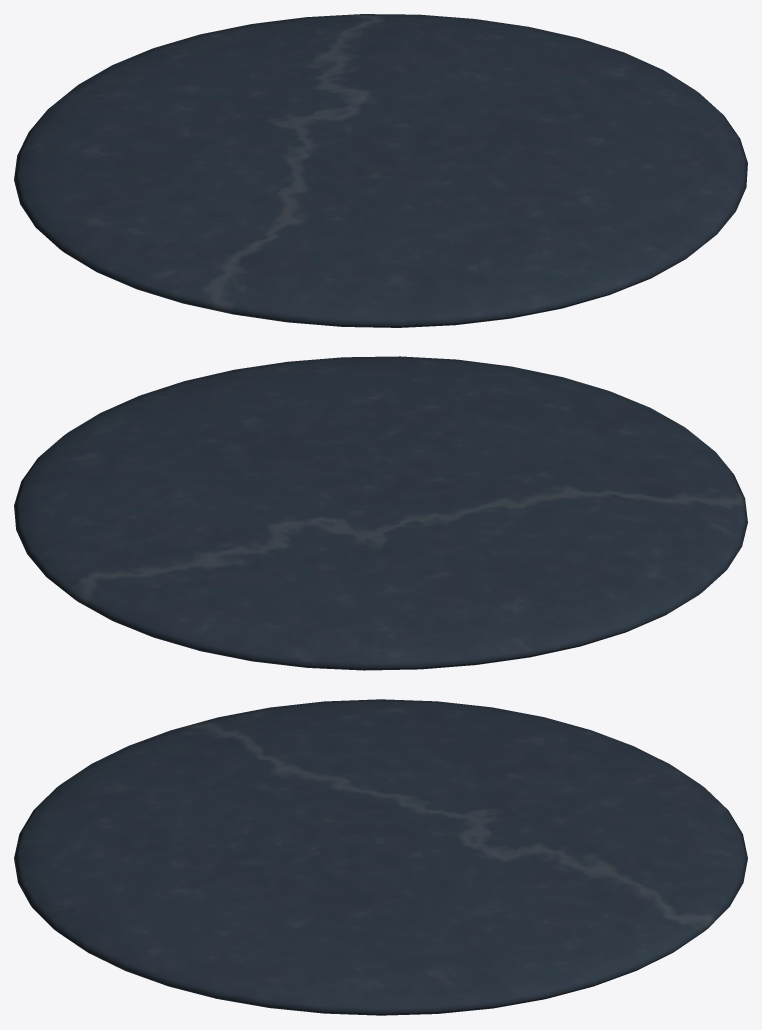
File: master_disc_05.glb
3 renders of one model, top to bottom at view 1: azimuth 30°, elevation 25°; view 2: azimuth 150°, elevation 25°; view 3: azimuth 270°, elevation 25°, orthographic.
Parts seen in each view (by area): view 1: master_disc_05; view 2: master_disc_05; view 3: master_disc_05.
Boxes of the visible parts, x1,y1,x2,y2 form: master_disc_05: (14, 14, 747, 327); master_disc_05: (14, 356, 747, 670); master_disc_05: (14, 699, 747, 1015).
Bounding box in the file's own units: 0.0903 × 0.00623 × 0.0898.
1 material, 1 textured.
